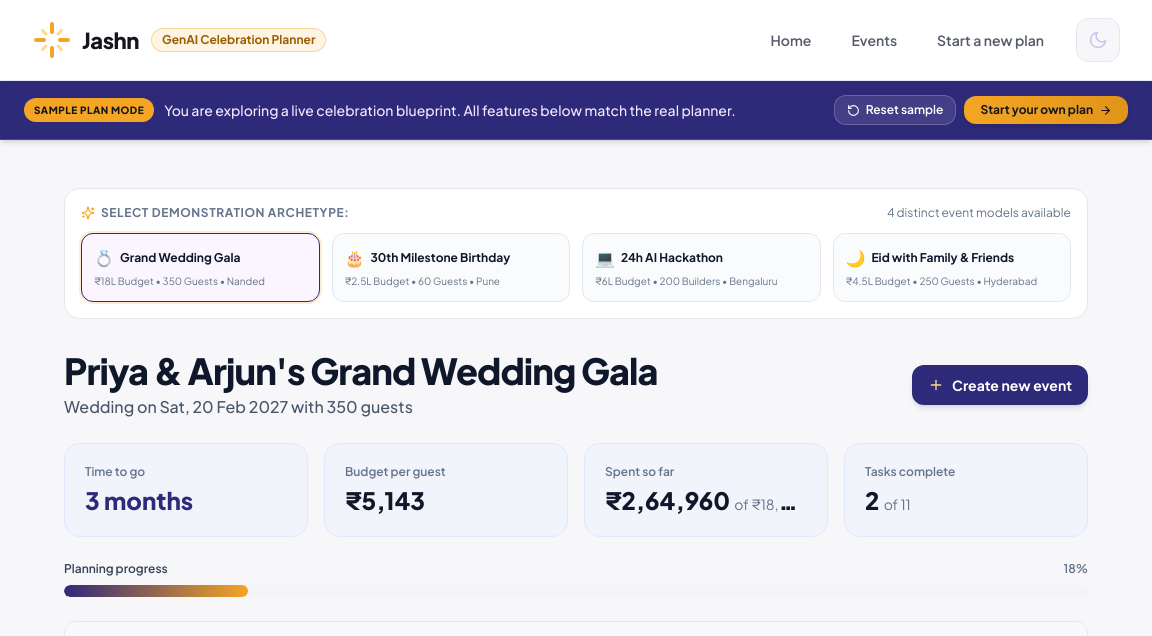
Test case: SamplePlanPage Integration › correctly maps and displays selected priorities when editing 30th Milestone Birthday sample
// Switch to Birthday archetype
Step 1. Click the text "30th Milestone Birthday" → click(440, 258), box [370,250,510,266]
(page scrolled)
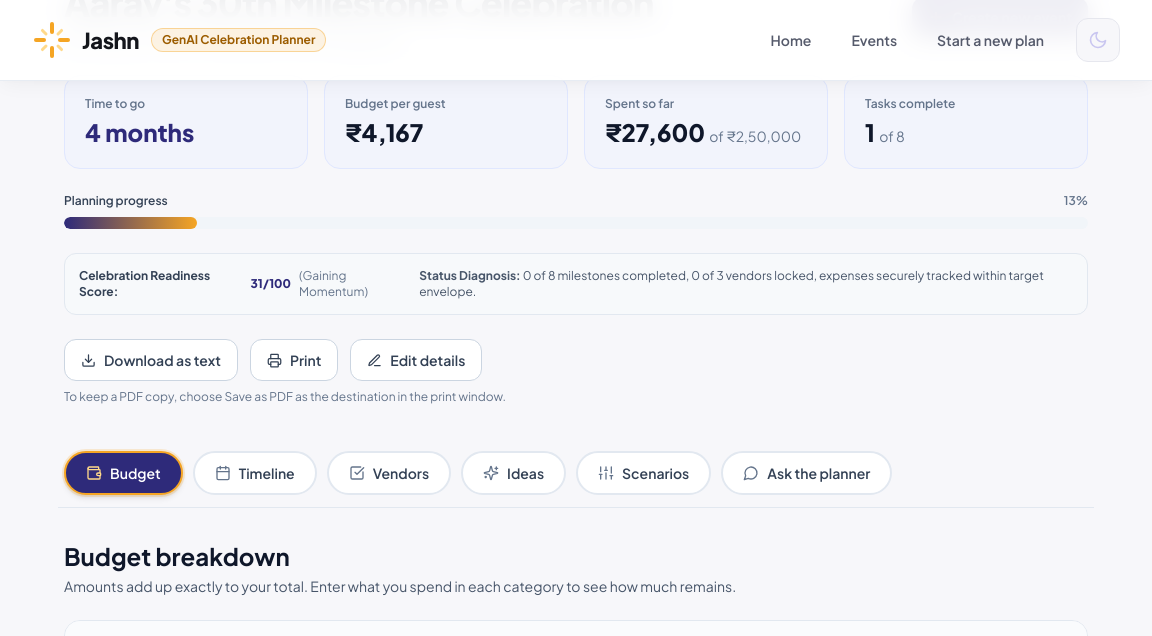
// Click Edit details
Step 2. Click the button "Edit details" → click(416, 360), box [350,339,482,381]
(page scrolled)
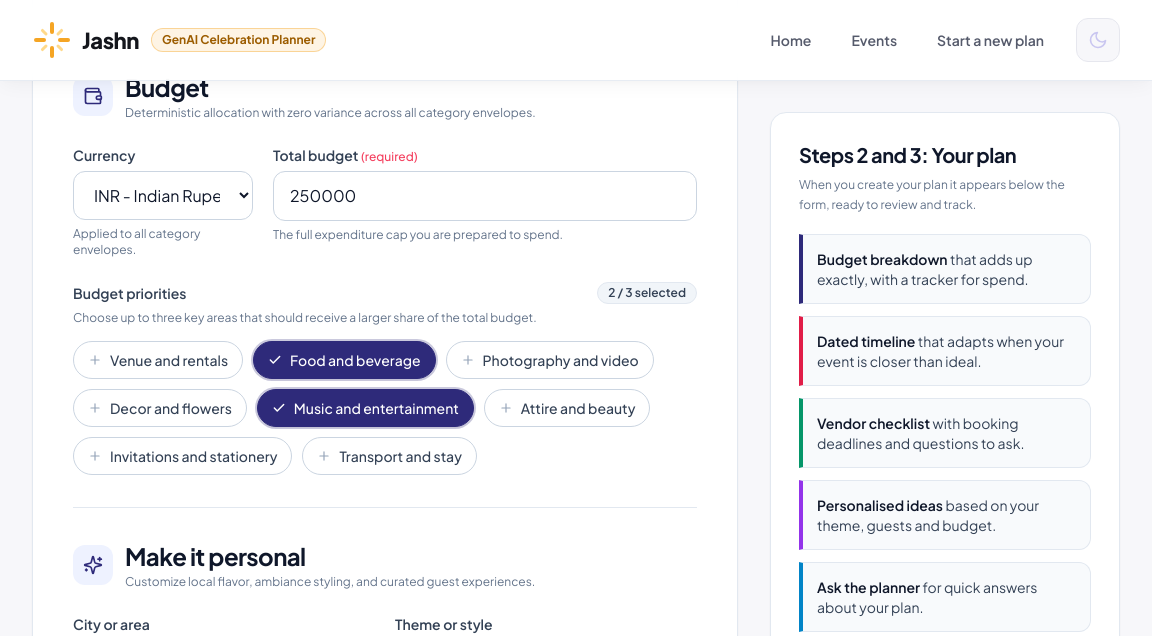
Expected: the text "2 / 3 selected" is shown, [597,282,697,304]
// Selecting a 3rd priority updates to 3 / 3 selected
Step 3. Click the button "Photography and video" → click(550, 360), box [446,341,654,379]
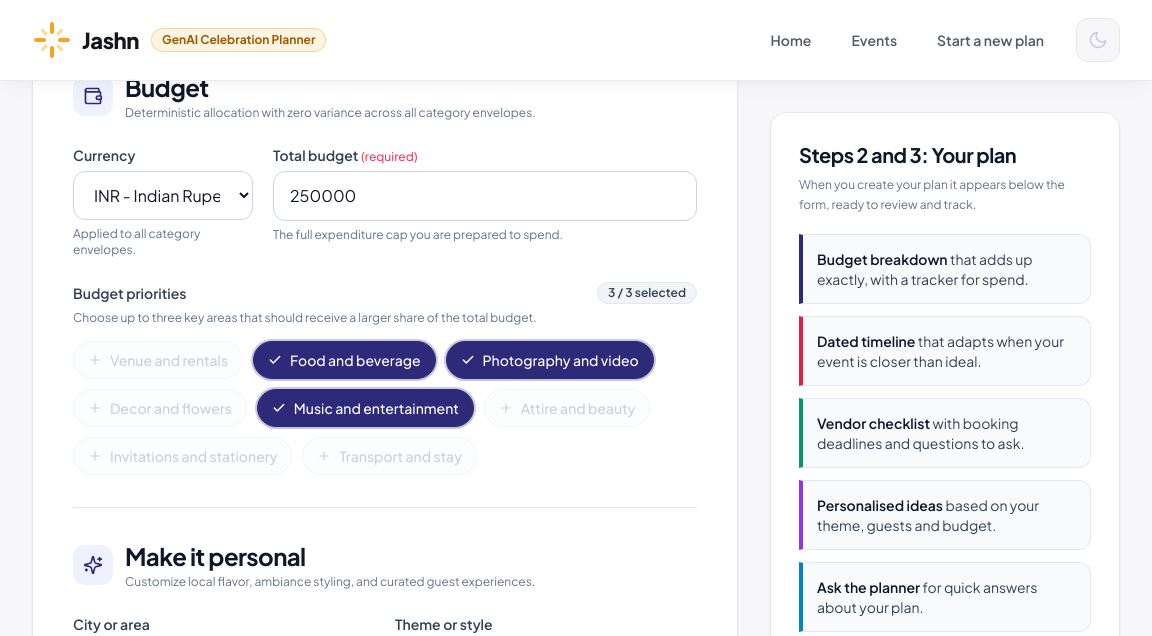
Expected: the text "3 / 3 selected" is shown, [597,282,697,304]
